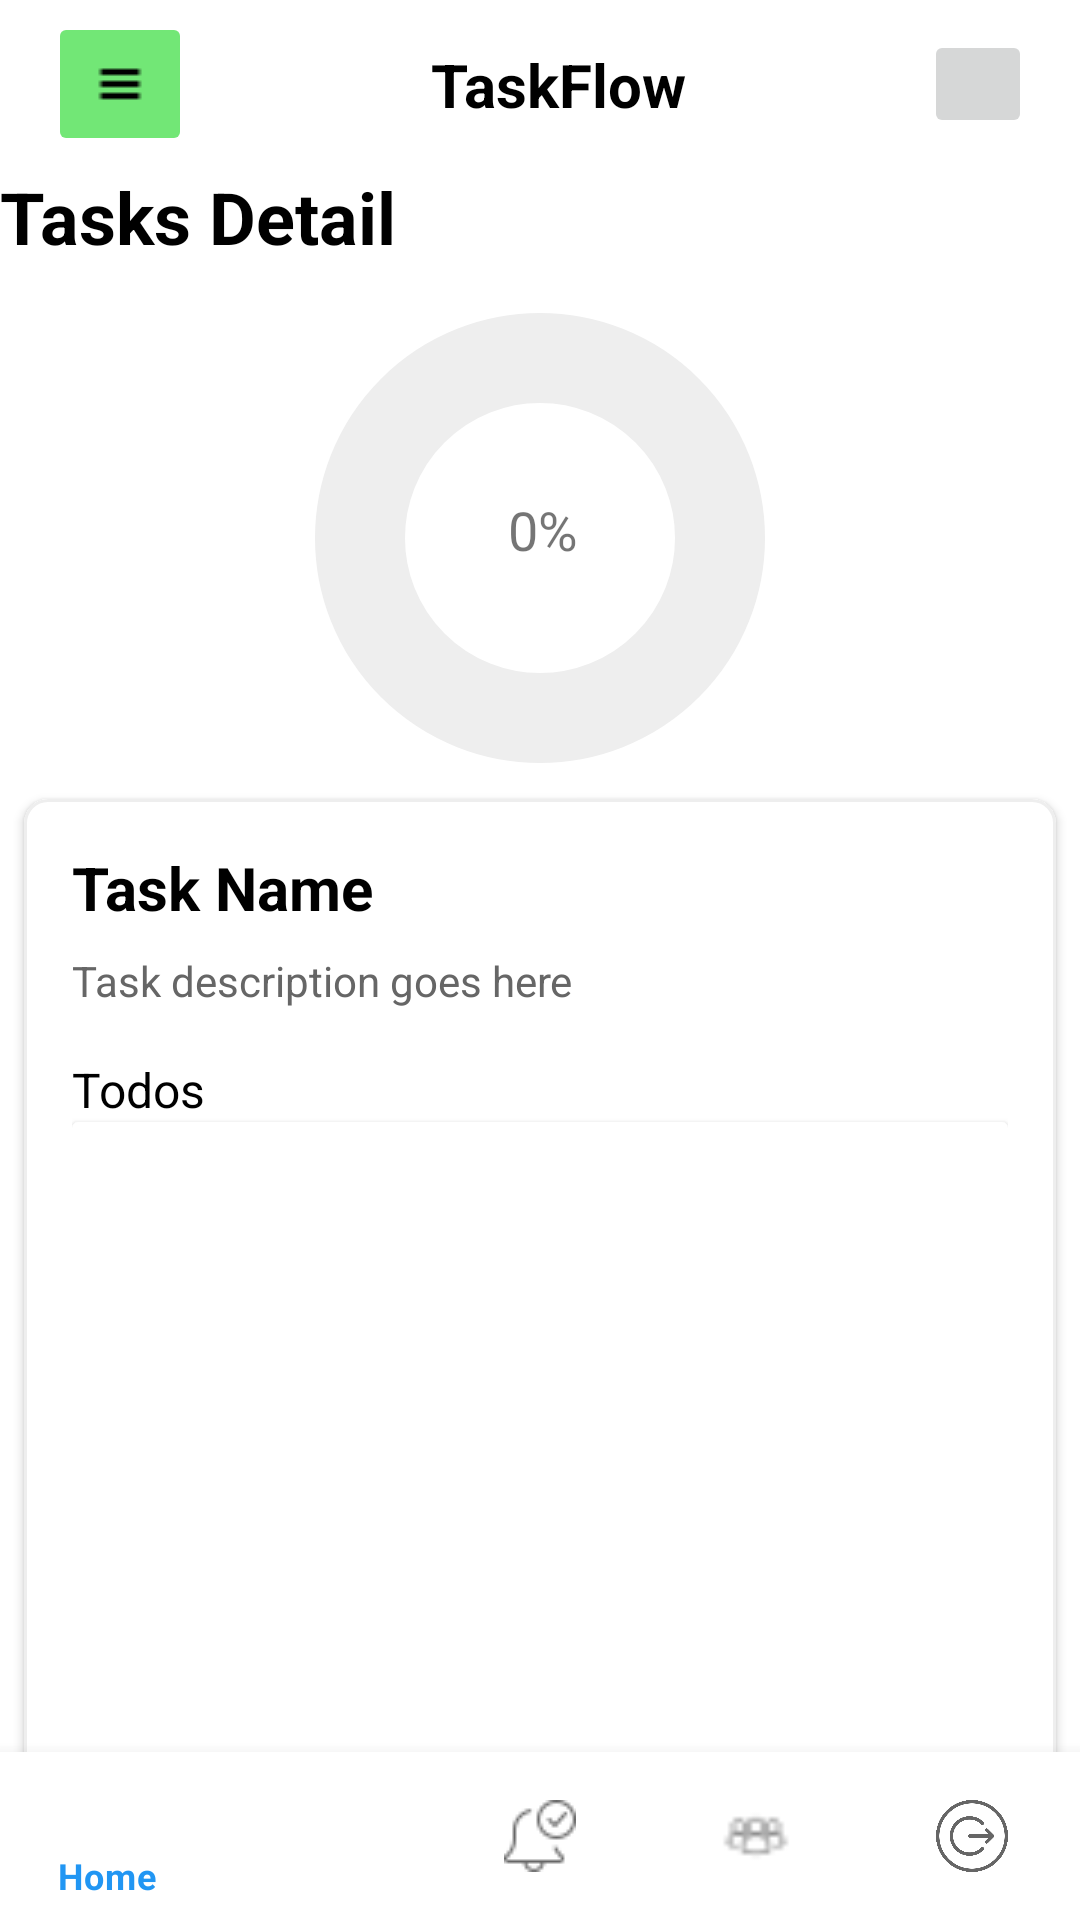

Screen size 1080 × 1920. Icon name, then its box in pixels as (x1, y1, x2, y2):
Menu: (60, 30, 180, 138)
